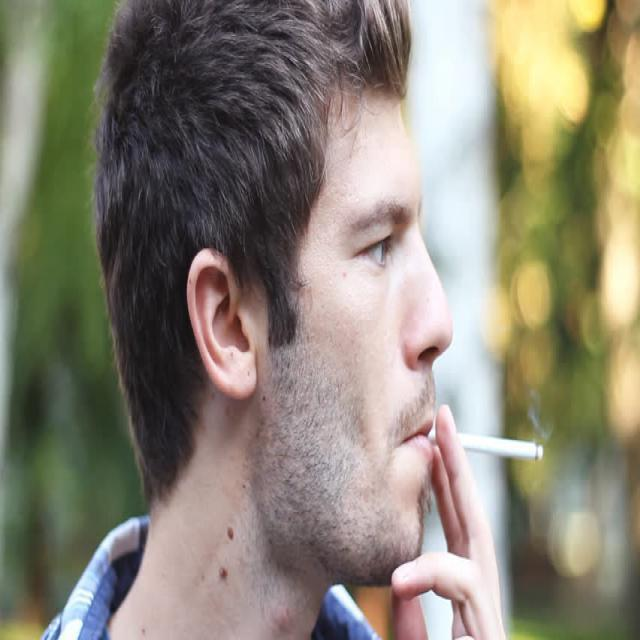smoking: (410, 393, 550, 470)
